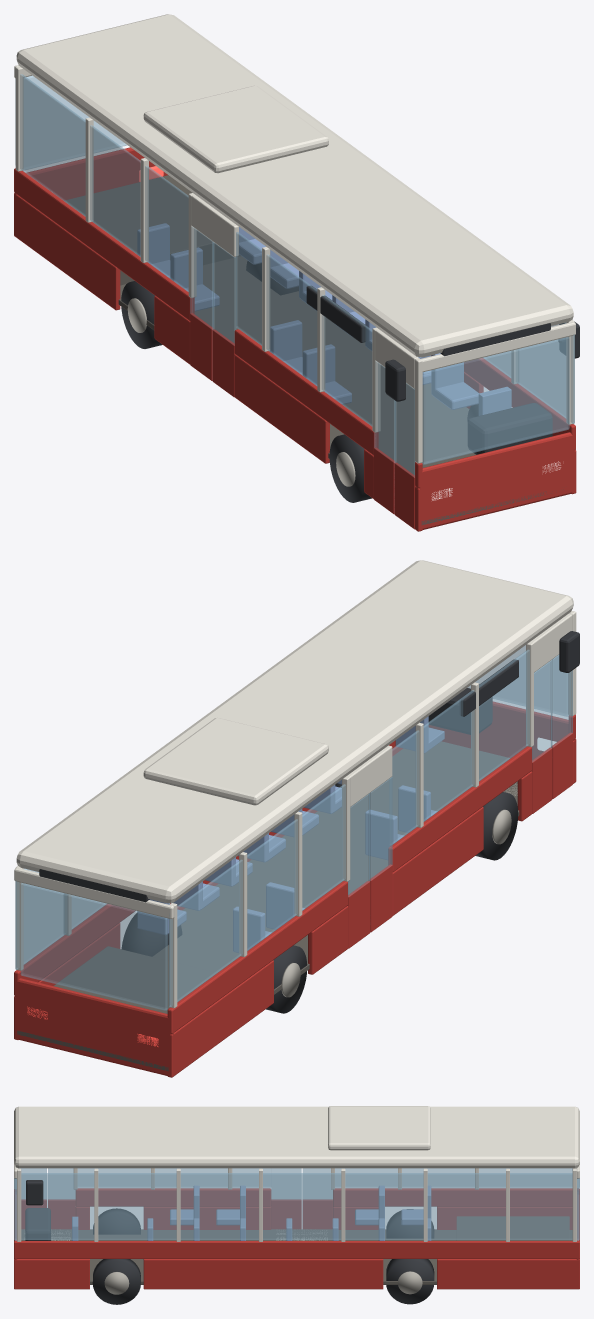
Rendered from ExpressBus_blockout.glb.
3 views of the same model, one above another, from view 1: azimuth 30°, elevation 25°; view 2: azimuth 150°, elevation 25°; view 3: azimuth 270°, elevation 25° (orthographic). The views are drawn at different scales.
Visible parts, largest first — view 1: VEH03_ExpressBus_Roof_L0, VEH03_ExpressBus_SideRGlass2_L0, VEH03_ExpressBus_Floor_L0, VEH03_ExpressBus_FrontGlass_L0, VEH03_ExpressBus_SideRGlass1_L0, VEH03_ExpressBus_FrontLower_L0, VEH03_ExpressBus_RoofAC_L0, VEH03_ExpressBus_RearDeck_L0, VEH03_ExpressBus_SideRBand2_L0, VEH03_ExpressBus_RearGlass_L0, VEH03_ExpressBus_SideRLower2S2_L0, VEH03_ExpressBus_SideRLower1S2_L0 (+38 smaller); view 2: VEH03_ExpressBus_Roof_L0, VEH03_ExpressBus_Floor_L0, VEH03_ExpressBus_SideRGlass2_L0, VEH03_ExpressBus_RearGlass_L0, VEH03_ExpressBus_SideRGlass1_L0, VEH03_ExpressBus_RoofAC_L0, VEH03_ExpressBus_RearLower_L0, VEH03_ExpressBus_RearDeck_L0, VEH03_ExpressBus_SideRBand2_L0, VEH03_ExpressBus_SideRLower2S2_L0, VEH03_ExpressBus_SideRLower1S2_L0, VEH03_ExpressBus_SideRBand1_L0 (+37 smaller); view 3: VEH03_ExpressBus_SideLGlass0_L0, VEH03_ExpressBus_Roof_L0, VEH03_ExpressBus_SideLBand0_L0, VEH03_ExpressBus_SideLLower0S2_L0, VEH03_ExpressBus_RoofAC_L0, VEH03_ExpressBus_SideLLower0S4_L0, VEH03_ExpressBus_SideRGlass2_L0, VEH03_ExpressBus_SideRBand2_L0, VEH03_ExpressBus_Floor_L0, VEH03_ExpressBus_SideRGlass1_L0, VEH03_ExpressBus_SideRBand1_L0, VEH03_ExpressBus_RearDeck_L0 (+32 smaller).
Boxes of the visible parts, x1=… form: VEH03_ExpressBus_Roof_L0: x1=16, y1=14, x2=573, y2=357; VEH03_ExpressBus_SideRGlass2_L0: x1=15, y1=74, x2=188, y2=291; VEH03_ExpressBus_Floor_L0: x1=118, y1=256, x2=563, y2=525; VEH03_ExpressBus_FrontGlass_L0: x1=422, y1=337, x2=569, y2=464; VEH03_ExpressBus_SideRGlass1_L0: x1=236, y1=232, x2=372, y2=426; VEH03_ExpressBus_FrontLower_L0: x1=416, y1=432, x2=575, y2=529; VEH03_ExpressBus_RoofAC_L0: x1=143, y1=85, x2=328, y2=173; VEH03_ExpressBus_RearDeck_L0: x1=64, y1=175, x2=240, y2=285; VEH03_ExpressBus_SideRBand2_L0: x1=14, y1=168, x2=194, y2=320; VEH03_ExpressBus_RearGlass_L0: x1=24, y1=75, x2=127, y2=169; VEH03_ExpressBus_SideRLower2S2_L0: x1=14, y1=193, x2=120, y2=310; VEH03_ExpressBus_SideRLower1S2_L0: x1=234, y1=354, x2=329, y2=463; VEH03_ExpressBus_Roof_L0: x1=16, y1=560, x2=573, y2=903; VEH03_ExpressBus_Floor_L0: x1=17, y1=741, x2=519, y2=1071; VEH03_ExpressBus_SideRGlass2_L0: x1=168, y1=784, x2=345, y2=1007; VEH03_ExpressBus_RearGlass_L0: x1=20, y1=883, x2=167, y2=1010; VEH03_ExpressBus_SideRGlass1_L0: x1=389, y1=650, x2=529, y2=845; VEH03_ExpressBus_RoofAC_L0: x1=143, y1=717, x2=328, y2=805; VEH03_ExpressBus_RearLower_L0: x1=15, y1=978, x2=173, y2=1075; VEH03_ExpressBus_RearDeck_L0: x1=53, y1=946, x2=216, y2=1013; VEH03_ExpressBus_SideRBand2_L0: x1=167, y1=881, x2=347, y2=1033; VEH03_ExpressBus_SideRLower2S2_L0: x1=167, y1=960, x2=273, y2=1077; VEH03_ExpressBus_SideRLower1S2_L0: x1=392, y1=807, x2=483, y2=915; VEH03_ExpressBus_SideRBand1_L0: x1=388, y1=746, x2=531, y2=872; VEH03_ExpressBus_SideLGlass0_L0: x1=14, y1=1173, x2=579, y2=1239; VEH03_ExpressBus_Roof_L0: x1=14, y1=1106, x2=579, y2=1168; VEH03_ExpressBus_SideLBand0_L0: x1=14, y1=1241, x2=579, y2=1258; VEH03_ExpressBus_SideLLower0S2_L0: x1=143, y1=1259, x2=383, y2=1289; VEH03_ExpressBus_RoofAC_L0: x1=328, y1=1106, x2=430, y2=1150; VEH03_ExpressBus_SideLLower0S4_L0: x1=437, y1=1259, x2=579, y2=1289; VEH03_ExpressBus_SideRGlass2_L0: x1=335, y1=1168, x2=579, y2=1187; VEH03_ExpressBus_SideRBand2_L0: x1=333, y1=1188, x2=579, y2=1206; VEH03_ExpressBus_Floor_L0: x1=21, y1=1229, x2=572, y2=1284; VEH03_ExpressBus_SideRGlass1_L0: x1=77, y1=1168, x2=271, y2=1187; VEH03_ExpressBus_SideRBand1_L0: x1=76, y1=1188, x2=270, y2=1206; VEH03_ExpressBus_RearDeck_L0: x1=456, y1=1216, x2=569, y2=1240.
Bounding box in the file's own units: 2.89 × 3.3 × 11.
